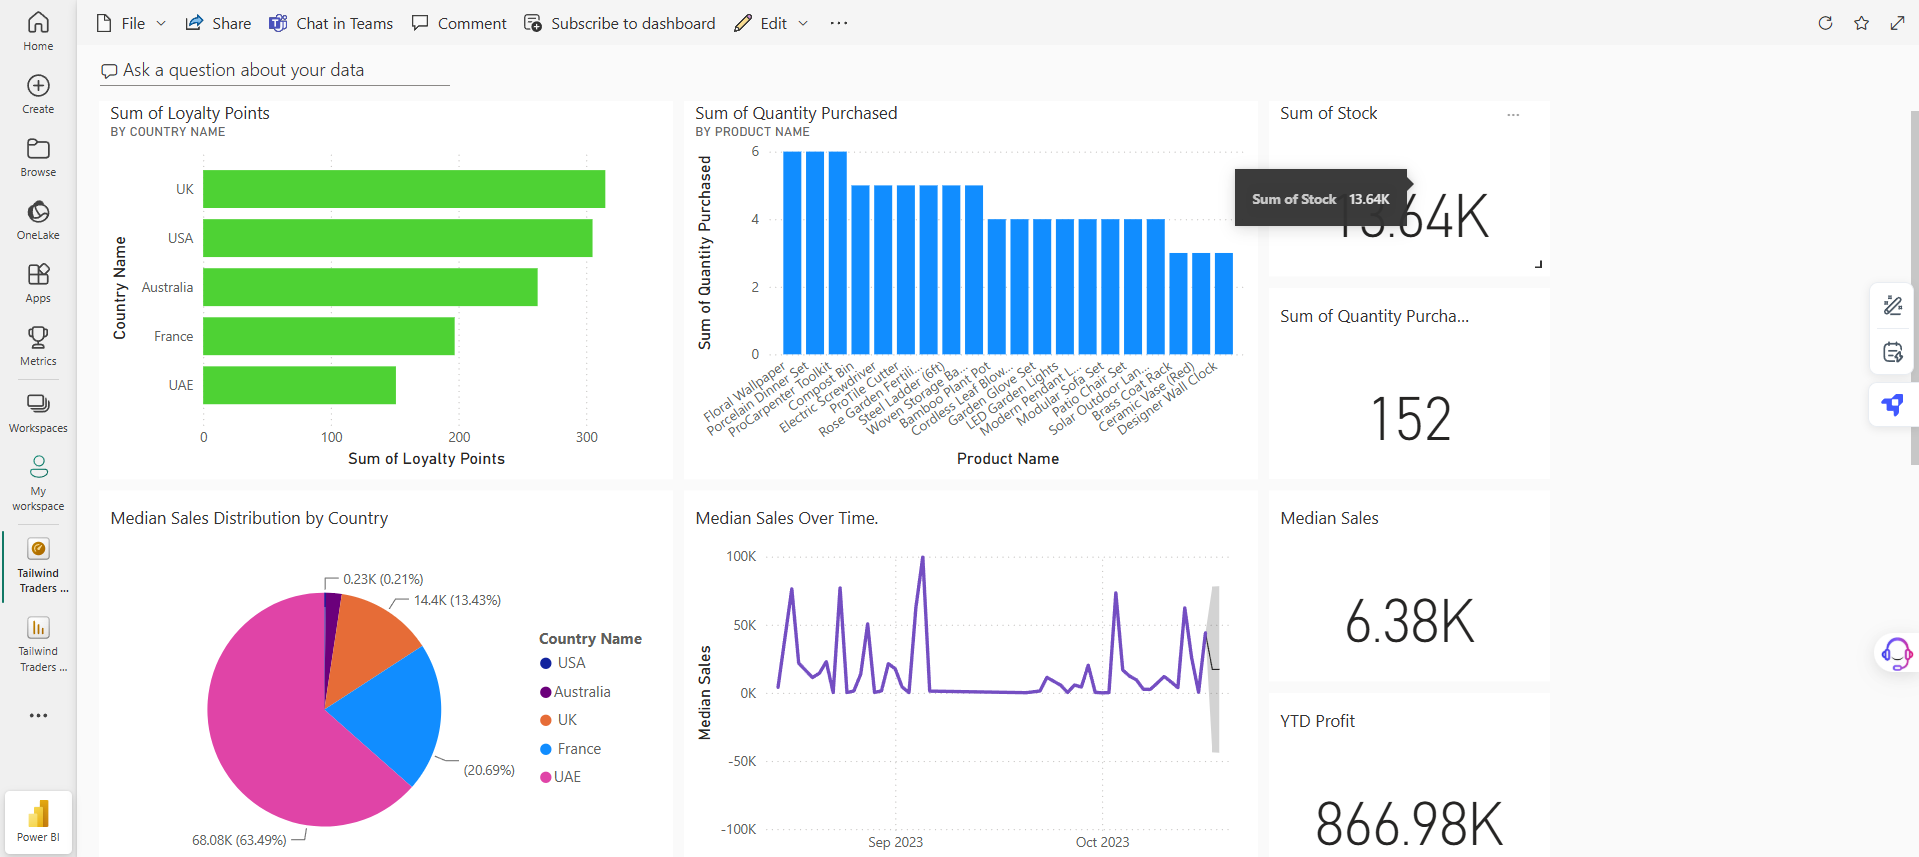

This screenshot's page, from the dashboard's own definition file:
{"tool":"powerbi","page":{"name":"Sales Overview","canvas":[1280,720],"ordinal":0},"visuals":[{"type":"actionButton","box":[0,0,100,40],"z":0},{"type":"barChart","fields":{"Category":["Sales in USD.Country Name"],"Y":["Sum(Sales in USD. Loyalty Points)"]},"box":[0,120,594.3,300],"z":1000},{"type":"clusteredColumnChart","fields":{"Y":["Sum(Sales in USD.Quantity Purchased)"],"Category":["Sales in USD.Product Name"]},"box":[607.1,120,672.9,300],"z":2000},{"type":"pieChart","title":"Median Sales Distribution by Country","fields":{"Category":["Sales in USD.Country Name"],"Y":["Sales in USD.Median Sales"]},"box":[0,420,568.6,300],"z":3000},{"type":"lineChart","title":"Median Sales Over Time.","fields":{"Y":["Sales in USD.Median Sales"],"Category":["CalendarTable.Date"]},"box":[607.1,420,672.9,300],"z":4000},{"type":"card","fields":{"Values":["Sum(Sales in USD. Stock  )"]},"box":[0,0,180,120],"z":5000},{"type":"card","fields":{"Values":["Sum(Sales in USD.Quantity Purchased)"]},"box":[341.4,0,227.1,120],"z":6000},{"type":"card","fields":{"Values":["Sales in USD.Median Sales"]},"box":[692.9,0,198.6,120],"z":7000},{"type":"slicer","fields":{"Values":["Sales in USD.Country Name"]},"box":[974.3,0,305.7,120],"z":8000}]}

Visuals, with their boxes on the page's 1280x720 design canvas (x1, y1, x2, y2). These are canvas units, not pixel positions in the 1919x857 screenshot, which may show the page scaled, cropped or inside an application window:
actionButton: {"left": 0, "top": 0, "right": 100, "bottom": 40}
barChart - Sales in USD.Country Name x Sum(Sales in USD. Loyalty Points): {"left": 0, "top": 120, "right": 594, "bottom": 420}
clusteredColumnChart - Sum(Sales in USD.Quantity Purchased) x Sales in USD.Product Name: {"left": 607, "top": 120, "right": 1280, "bottom": 420}
"Median Sales Distribution by Country" pieChart: {"left": 0, "top": 420, "right": 569, "bottom": 720}
"Median Sales Over Time." lineChart: {"left": 607, "top": 420, "right": 1280, "bottom": 720}
card - Sum(Sales in USD. Stock  ): {"left": 0, "top": 0, "right": 180, "bottom": 120}
card - Sum(Sales in USD.Quantity Purchased): {"left": 341, "top": 0, "right": 568, "bottom": 120}
card - Sales in USD.Median Sales: {"left": 693, "top": 0, "right": 892, "bottom": 120}
slicer - Sales in USD.Country Name: {"left": 974, "top": 0, "right": 1280, "bottom": 120}
